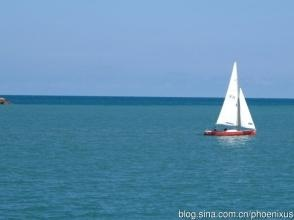fanchuan: (195, 59, 264, 142)
